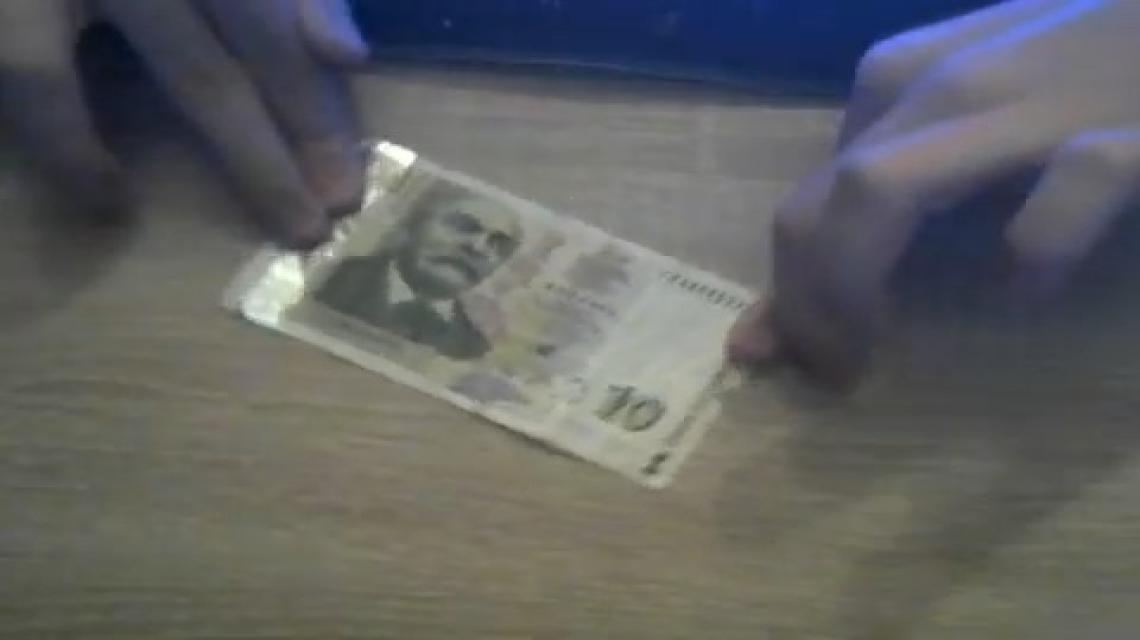10leva: (219, 140, 753, 489)
